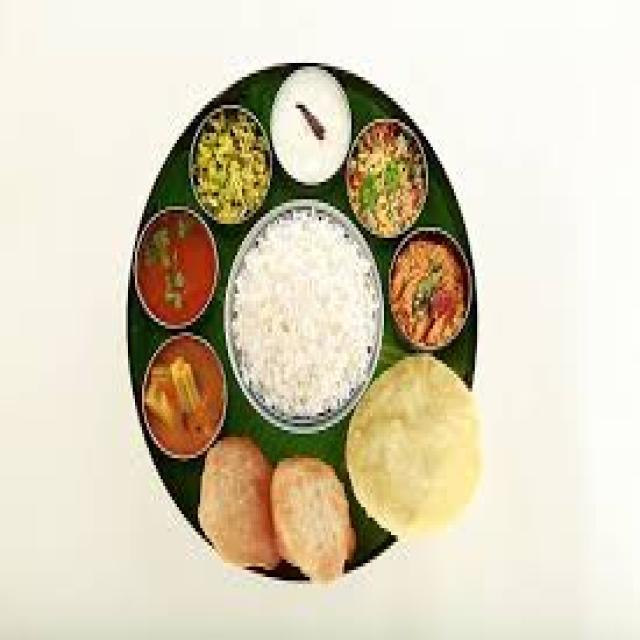papad: (348, 358, 482, 528)
pickle: (391, 234, 477, 351)
rice: (223, 214, 382, 420)
roti: (198, 443, 350, 573)
sambar-rasam: (133, 213, 217, 323)
sweet: (263, 62, 357, 184)
